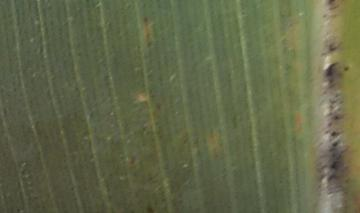tarspot: (322, 61, 339, 78), (144, 201, 154, 213), (341, 64, 351, 73), (330, 140, 339, 149), (330, 129, 337, 138), (327, 1, 335, 6), (15, 207, 21, 213)
